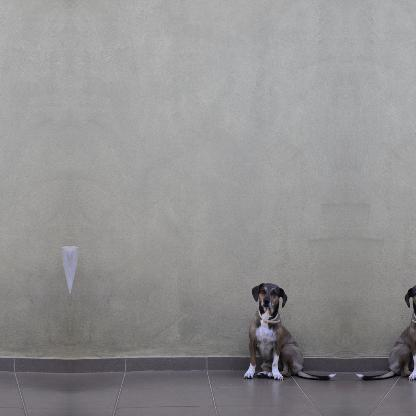Dog: (238, 284, 336, 380), (353, 283, 415, 381)
